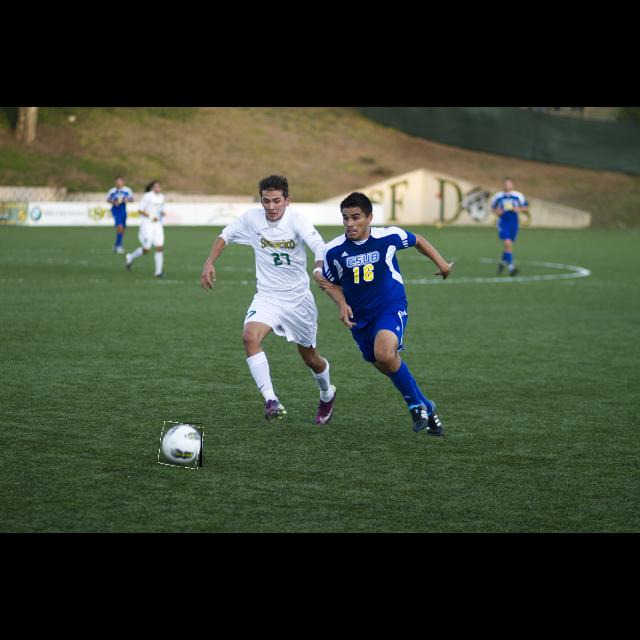Football: (160, 423, 202, 467)
